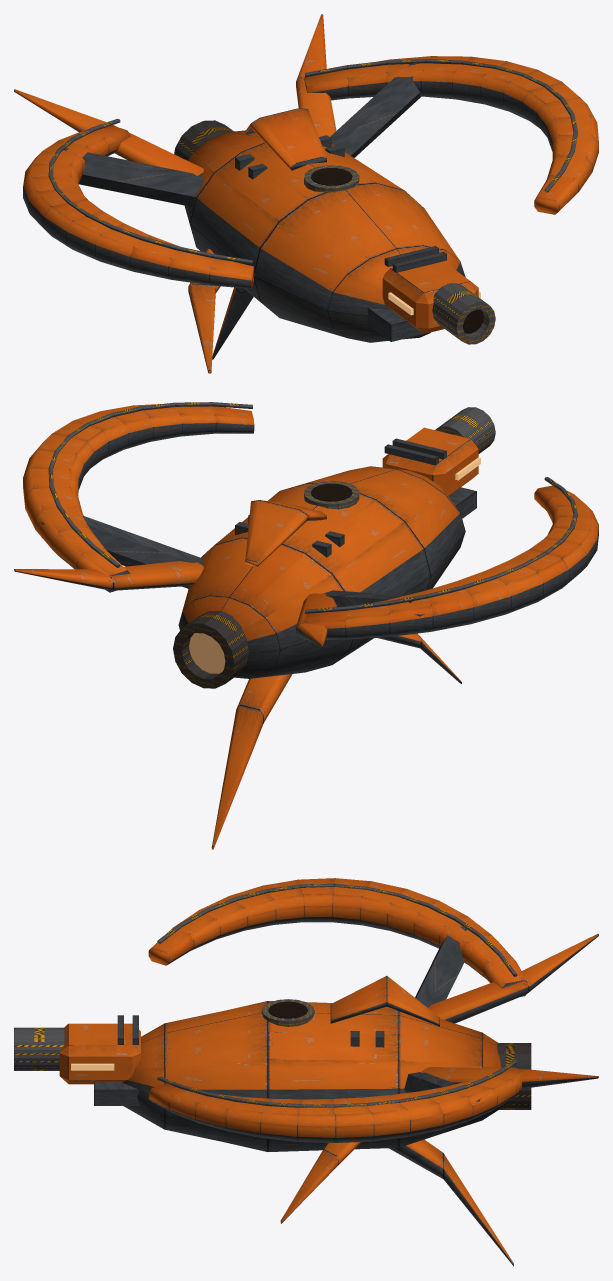
File: pioneer-saturn-l08-laser.glb
3 renders of one model, top to bottom at view 1: azimuth 30°, elevation 25°; view 2: azimuth 150°, elevation 25°; view 3: azimuth 270°, elevation 25°, orthographic. The views are drawn at different scales.
Visible parts, largest first — view 1: Drone; view 2: Drone; view 3: Drone.
Boxes of the visible parts, left/top/right/bottom form: Drone: left=14, top=14, right=598, bottom=373; Drone: left=14, top=402, right=598, bottom=849; Drone: left=14, top=878, right=598, bottom=1266.
Size of the model in its own units: 1.63 by 0.878 by 1.66.
Materials: 3 (3 with a texture image).
